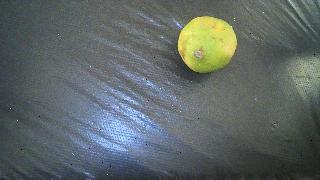DESECHO: (178, 17, 237, 73)
